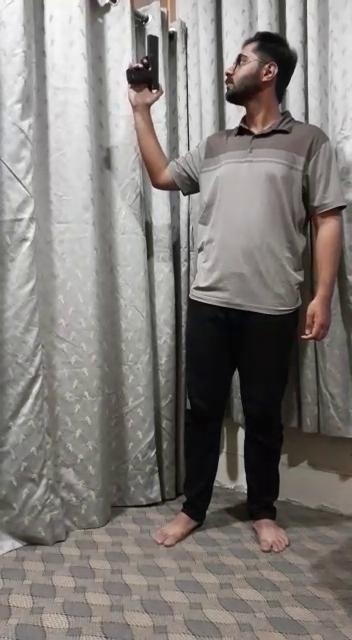criminal: (122, 27, 347, 557)
weapon: (123, 32, 167, 95)
